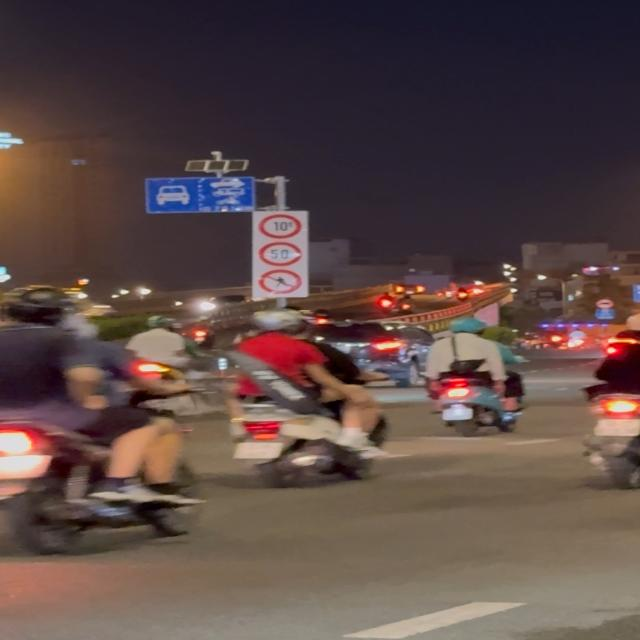Bien bao cam nguoi di bo: (258, 268, 303, 296)
Bien bao toc do toi da cho phep: (257, 241, 305, 267)
